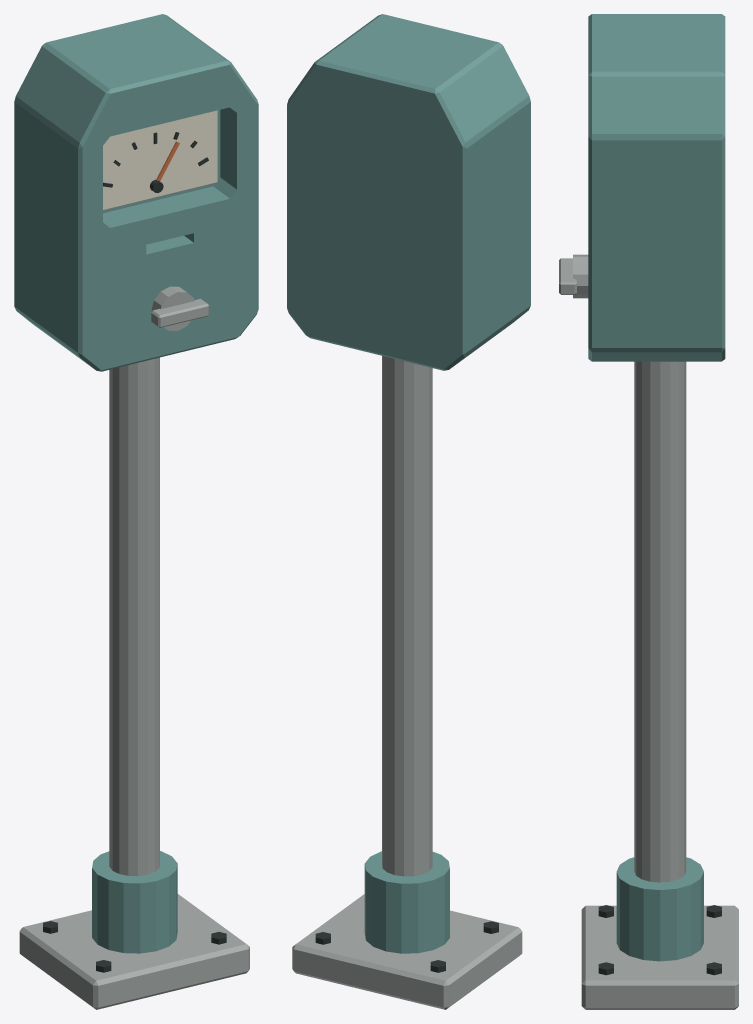
3 renders of one model, left to right at view 1: azimuth 30°, elevation 25°; view 2: azimuth 150°, elevation 25°; view 3: azimuth 270°, elevation 25°, orthographic.
Parts seen in each view (by area): view 1: MeterHead_RecessedClosedHousing, Post_Continuous, Base_GroundPlate, Display_InsetDial, Post_FootSocket, Control_FixedTurnBar, Control_FixedMount; view 2: MeterHead_RecessedClosedHousing, Post_Continuous, Base_GroundPlate, Post_FootSocket; view 3: MeterHead_RecessedClosedHousing, Post_Continuous, Base_GroundPlate, Post_FootSocket, Control_FixedMount, Control_FixedTurnBar.
Boxes of the visible parts, left/top/right/bottom form: MeterHead_RecessedClosedHousing: left=14, top=14, right=258, bottom=371; Post_Continuous: left=109, top=357, right=159, bottom=875; Base_GroundPlate: left=19, top=894, right=249, bottom=1009; Display_InsetDial: left=103, top=110, right=217, bottom=210; Post_FootSocket: left=92, top=851, right=177, bottom=953; Control_FixedTurnBar: left=151, top=298, right=209, bottom=327; Control_FixedMount: left=151, top=286, right=194, bottom=330; MeterHead_RecessedClosedHousing: left=287, top=14, right=530, bottom=370; Post_Continuous: left=382, top=356, right=432, bottom=876; Base_GroundPlate: left=292, top=894, right=522, bottom=1009; Post_FootSocket: left=364, top=851, right=449, bottom=953; MeterHead_RecessedClosedHousing: left=588, top=14, right=725, bottom=361; Post_Continuous: left=634, top=361, right=686, bottom=882; Base_GroundPlate: left=581, top=905, right=738, bottom=1009; Post_FootSocket: left=616, top=857, right=703, bottom=961; Control_FixedMount: left=573, top=254, right=588, bottom=298; Control_FixedTurnBar: left=559, top=258, right=576, bottom=294.
Size of the model in its own units: 0.31 by 1.5 by 0.263.
